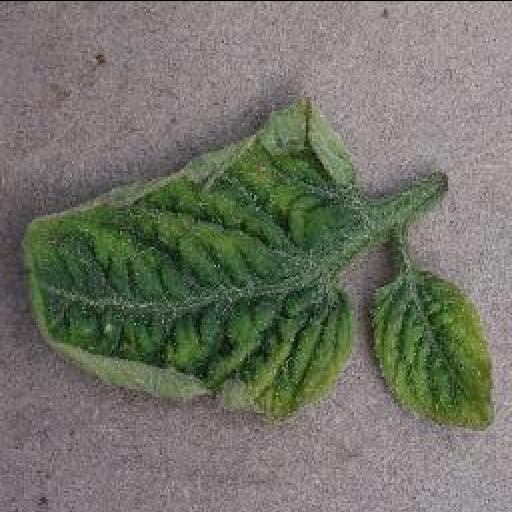disease_tomato: (18, 98, 360, 424), (368, 270, 494, 430)
